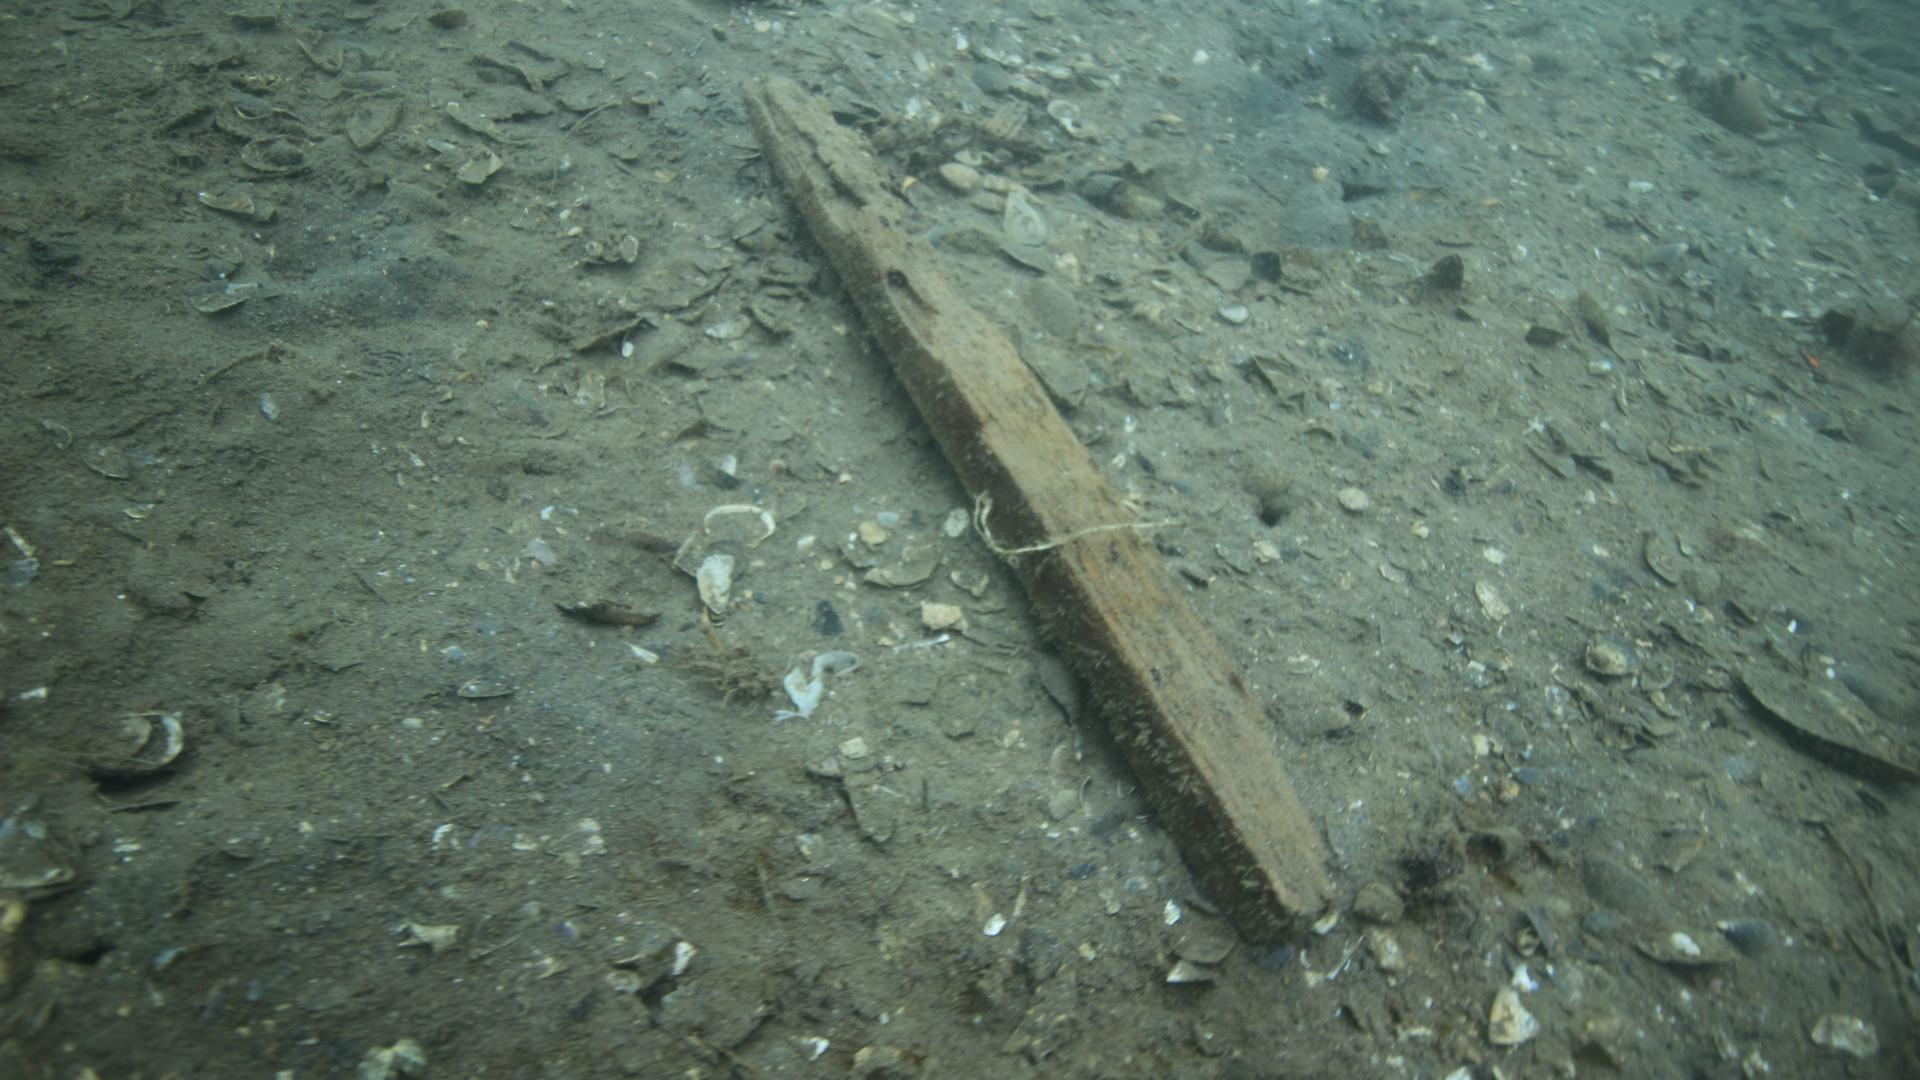wood: (740, 74, 1344, 953)
